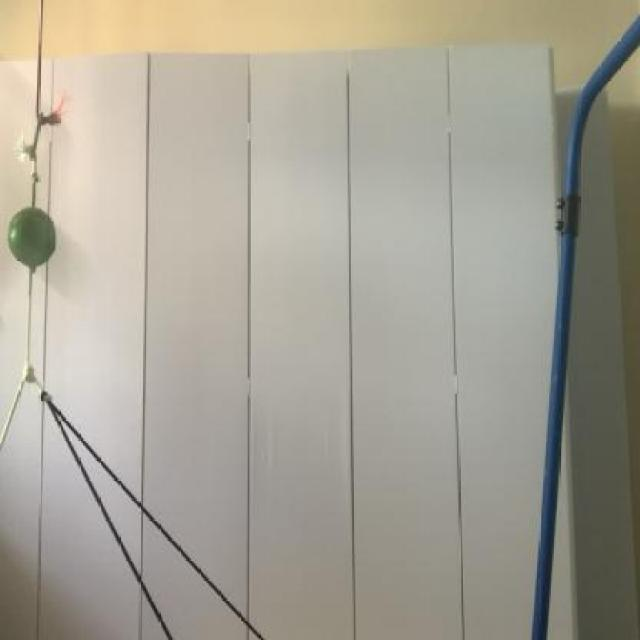baseball: (5, 198, 63, 276)
